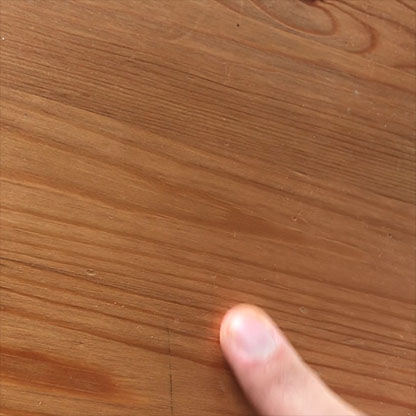fingertip: (207, 298, 299, 370)
